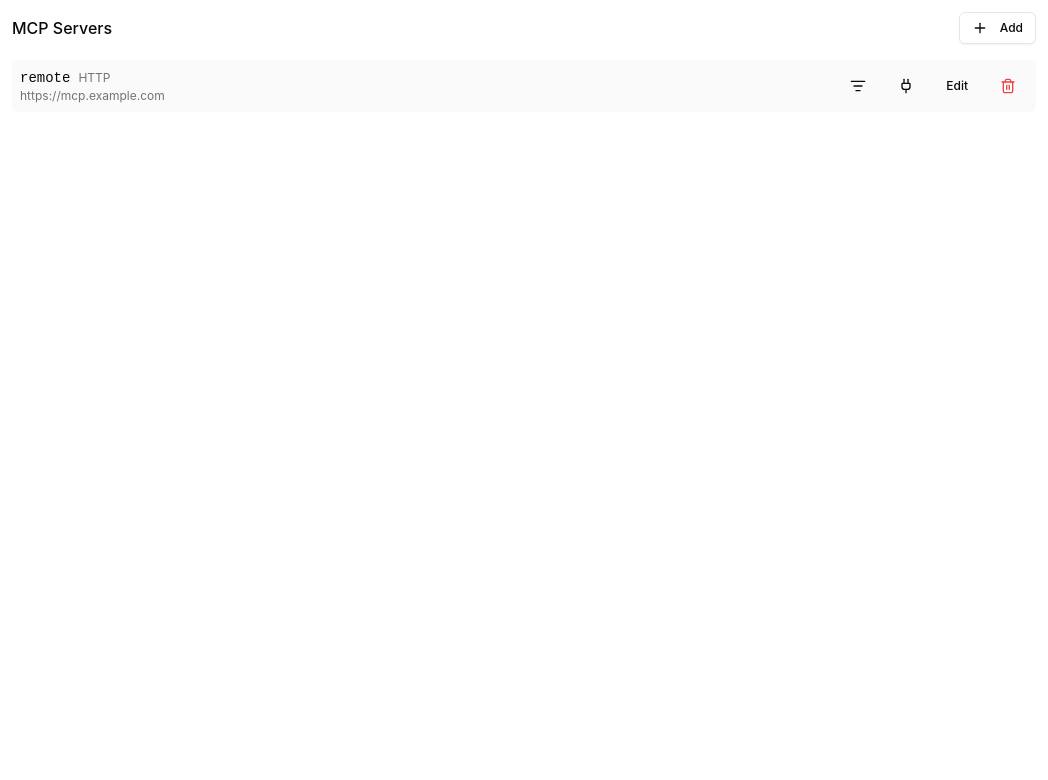
McpServerSection › rejects a cleared plain header value rather than storing an empty string
The image size is (1048, 780).
Click the button "Edit" at (957, 86), box [934,70,980,102]
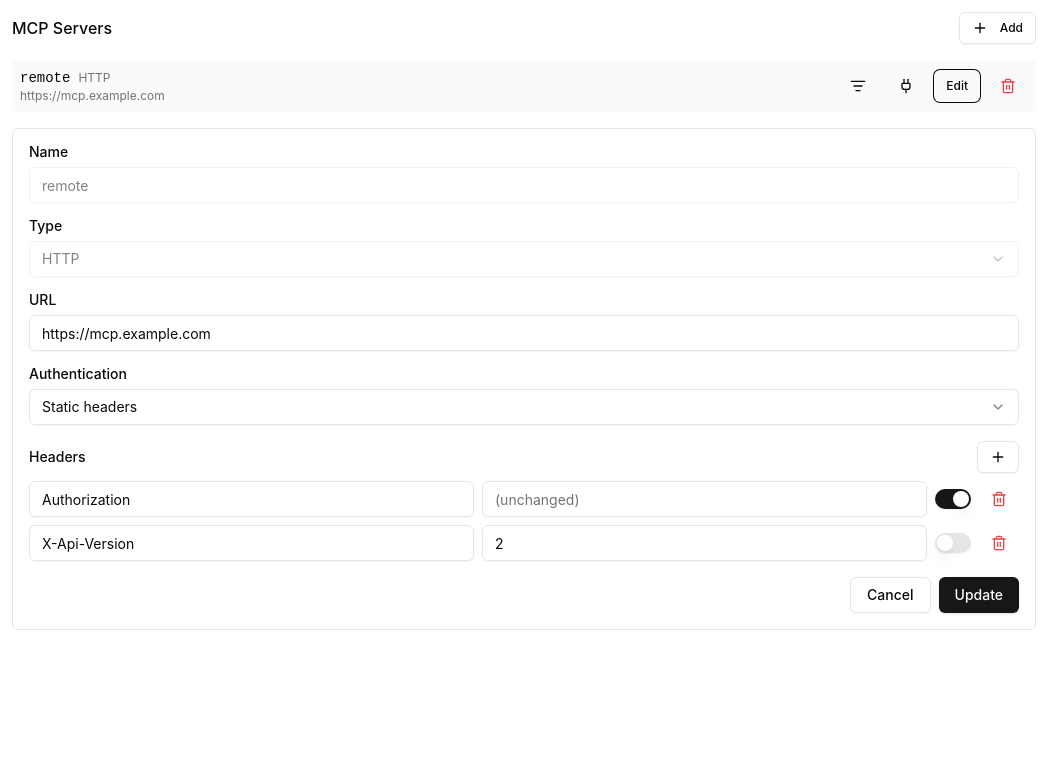
Clear the field named "X-Api-Version value" at (704, 543), box [482,525,927,561]
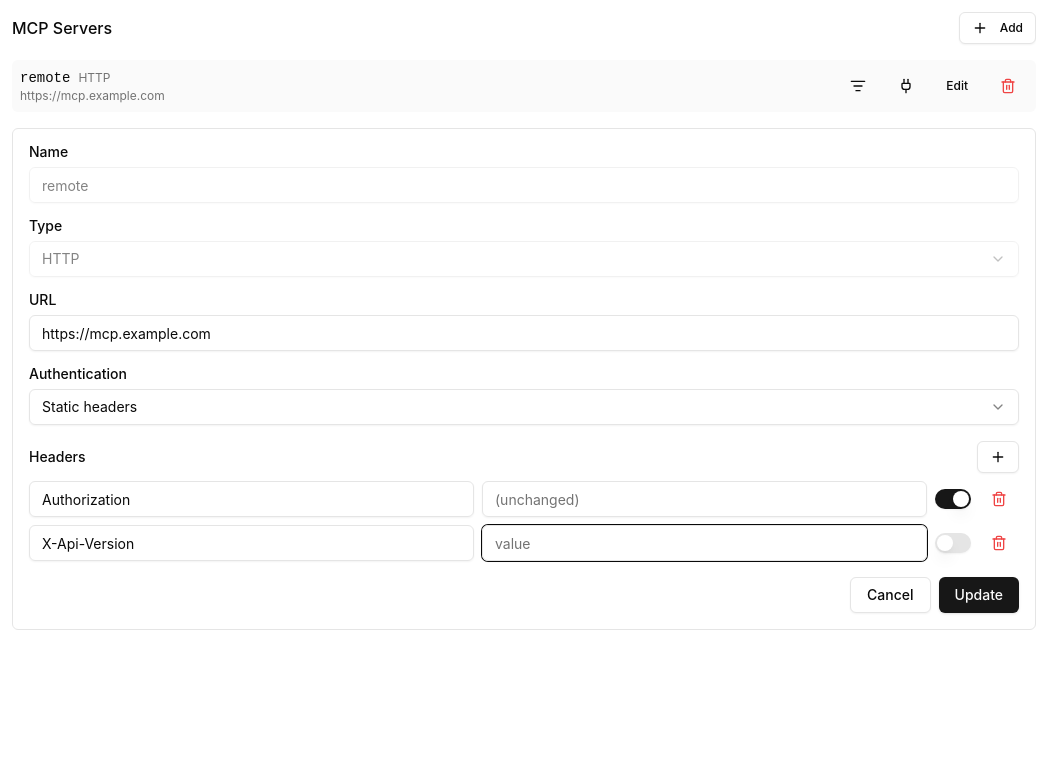
Click the button "Update" at (979, 595), box [938,577,1019,613]
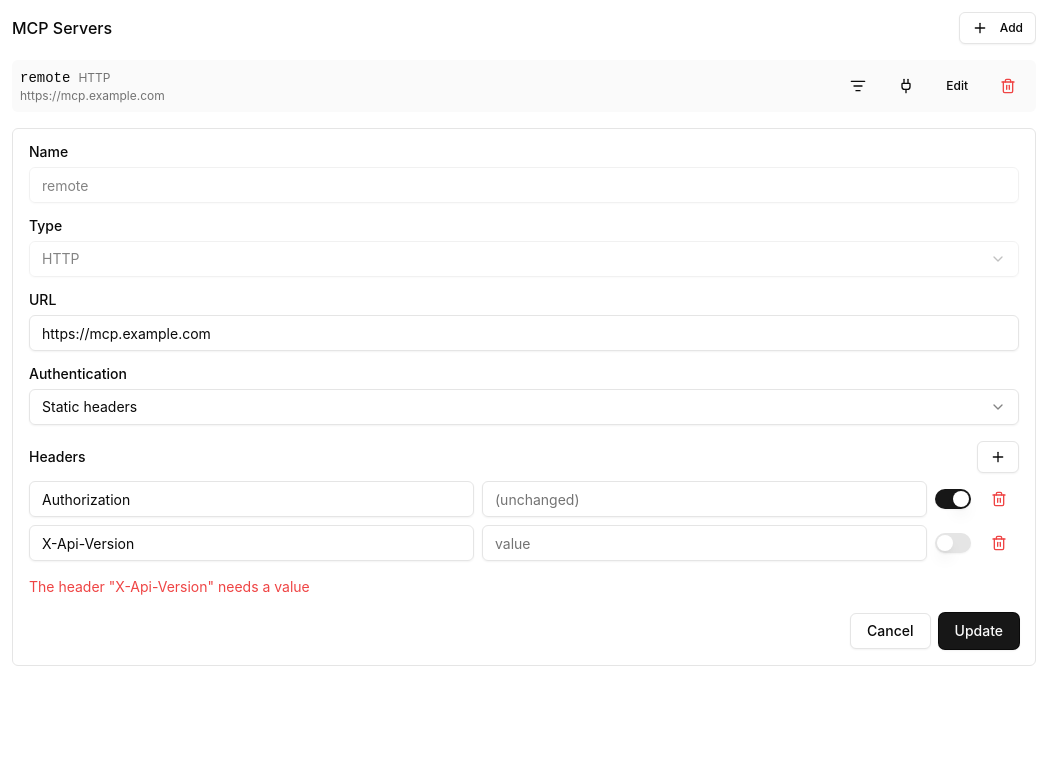
expect the text "The header \"X-Api-Version\" needs a value" is shown: met, box [29,578,310,595]
